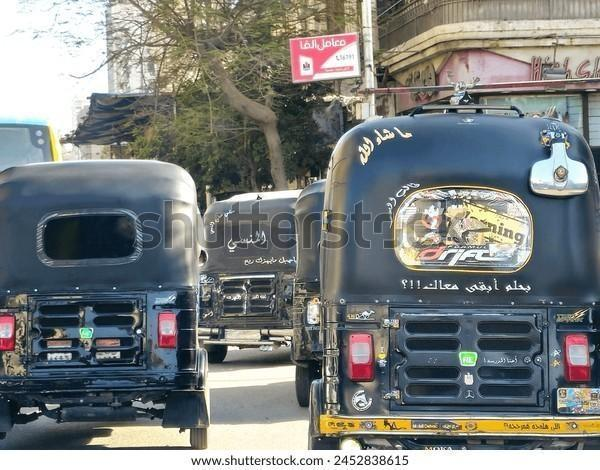keke: (278, 107, 598, 461), (5, 156, 214, 449)
